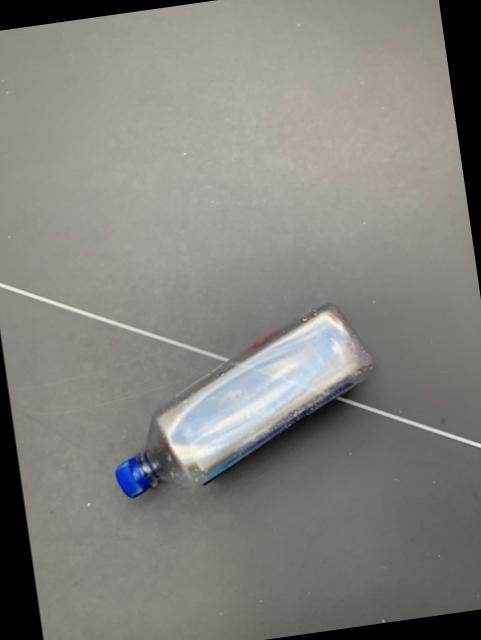plastic: (117, 303, 373, 495)
